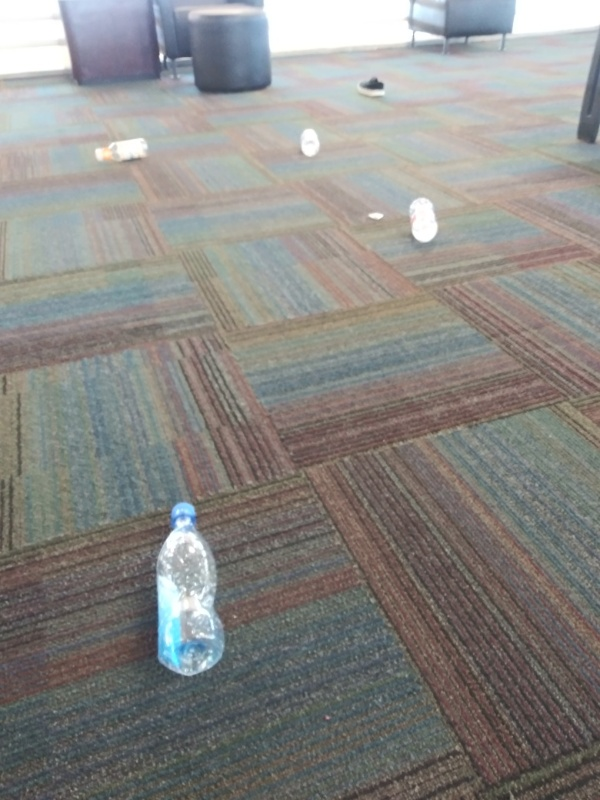bottle: (150, 499, 229, 679), (402, 194, 446, 244), (92, 135, 150, 169), (295, 124, 325, 163)
